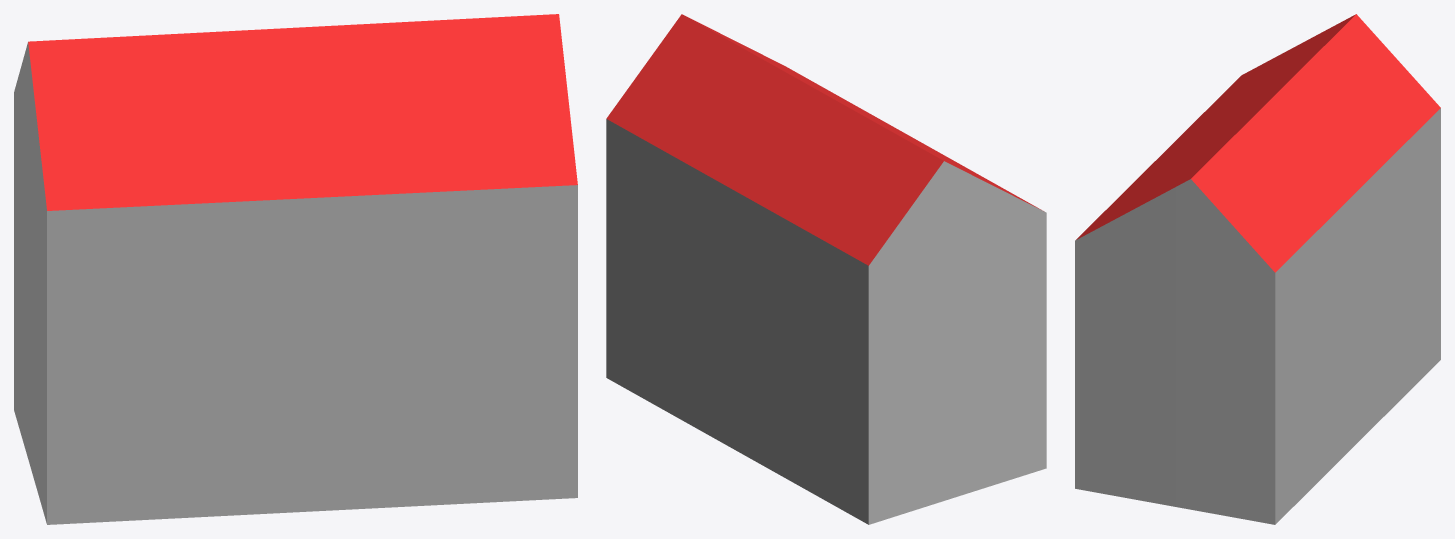
File: DEBY_LOD2_4907017.dae
3 renders of one model, left to right at view 1: azimuth 30°, elevation 25°; view 2: azimuth 150°, elevation 25°; view 3: azimuth 270°, elevation 25°, orthographic. The views are drawn at different scales.
Bounding box in the file's own units: 26.57 × 20.45 × 20.4.
